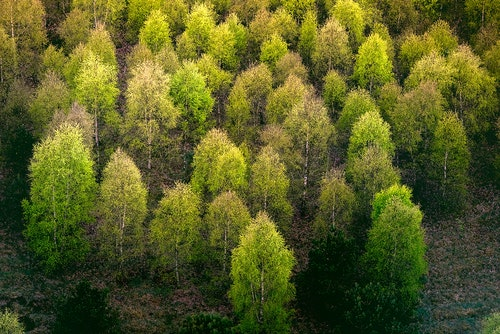forest-tree: (20, 135, 93, 271), (228, 210, 299, 328), (361, 196, 432, 314), (150, 178, 205, 286), (98, 144, 146, 253), (123, 54, 188, 129), (276, 83, 339, 154), (338, 25, 401, 96), (427, 107, 472, 205), (188, 127, 250, 196), (246, 137, 308, 206), (316, 166, 355, 261), (345, 106, 402, 157), (403, 46, 460, 97), (25, 66, 71, 127), (73, 46, 117, 102), (310, 12, 351, 71), (218, 75, 257, 128), (254, 25, 293, 69), (202, 22, 241, 66), (135, 7, 174, 51), (395, 29, 439, 63), (428, 14, 472, 48), (52, 10, 96, 44), (295, 6, 323, 53), (260, 6, 296, 26)
